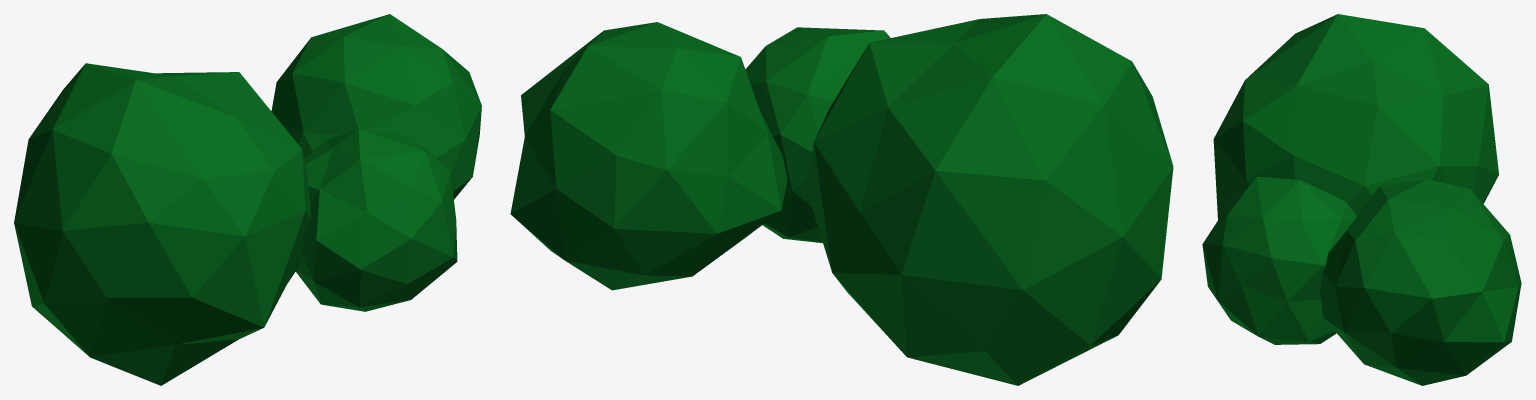
File: 240519_bush_bubbly_02.glb
3 views of the same model, side by side, from view 1: azimuth 30°, elevation 25°; view 2: azimuth 150°, elevation 25°; view 3: azimuth 270°, elevation 25° (orthographic). The views are drawn at different scales.
Parts seen in each view (by area): view 1: Icosphere.010; view 2: Icosphere.010; view 3: Icosphere.010.
Boxes of the visible parts, <box> form: Icosphere.010: <box>14,14,481,385</box>; Icosphere.010: <box>510,14,1173,385</box>; Icosphere.010: <box>1202,14,1521,385</box>.
Bounding box in the file's own units: 2.36 × 1.41 × 1.49.
